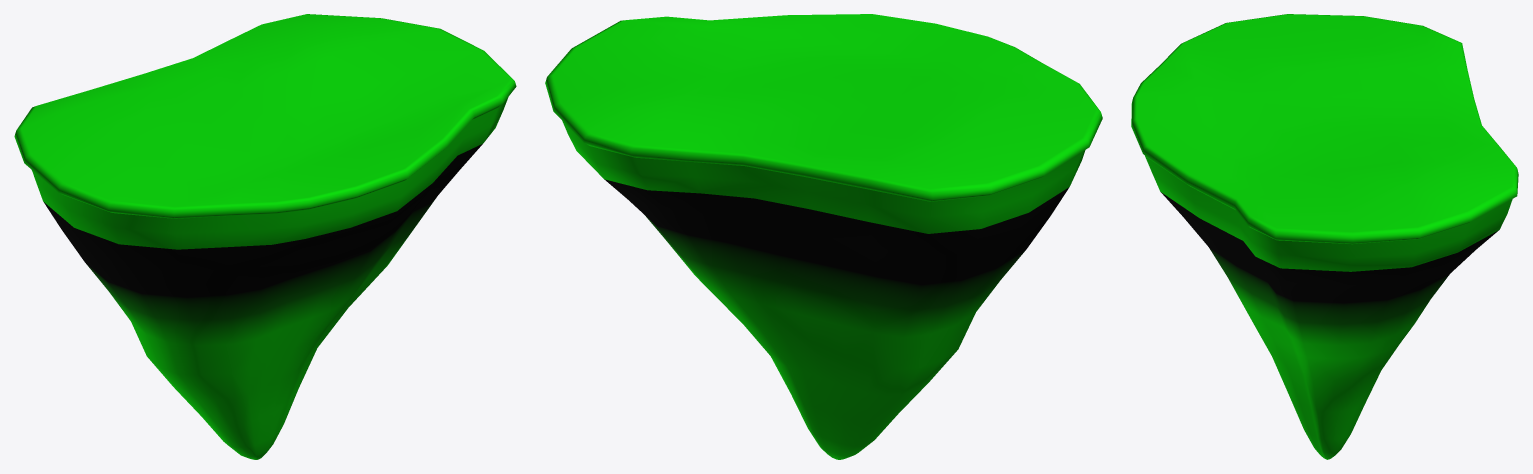
Rendered from Test island.fbx.
The picture shows the model from 3 angles, left to right: view 1: azimuth 30°, elevation 25°; view 2: azimuth 150°, elevation 25°; view 3: azimuth 270°, elevation 25°; orthographic projection. The views are drawn at different scales.
Parts seen in each view (by area): view 1: polySurface2; view 2: polySurface2; view 3: polySurface2.
Part boxes in pixels (x1=…): polySurface2: x1=14, y1=14, x2=516, y2=459; polySurface2: x1=545, y1=14, x2=1102, y2=459; polySurface2: x1=1131, y1=14, x2=1518, y2=459.
Size of the model in its own units: 148 by 107 by 108.
